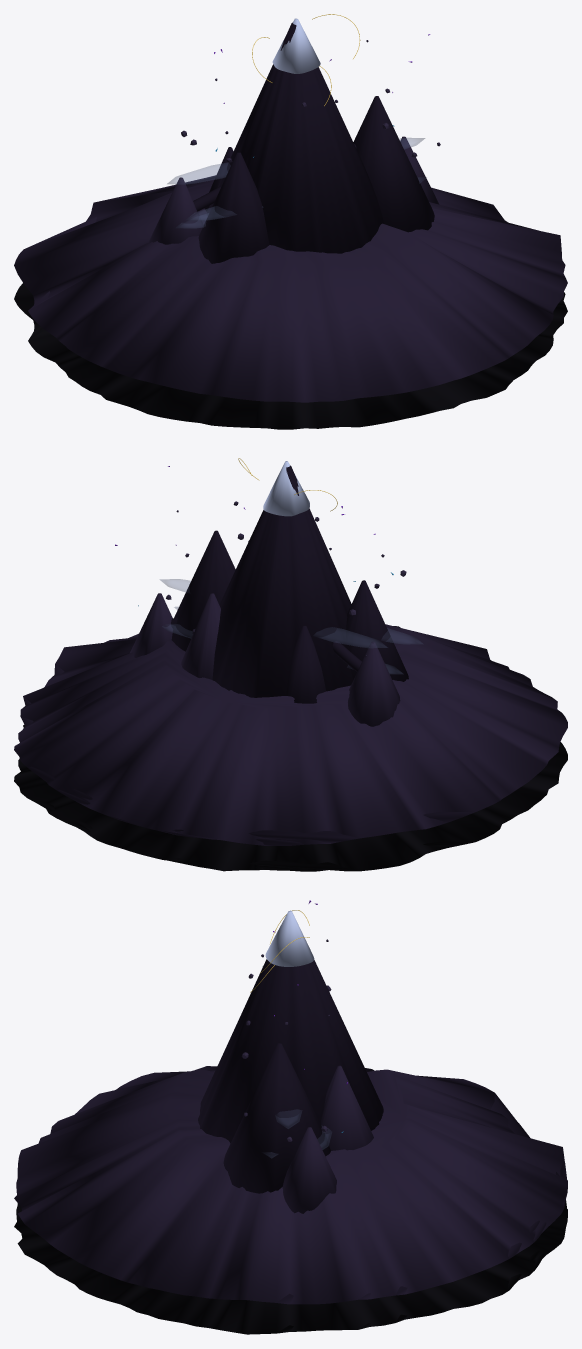
Rendered from mountain.obj.
3 views of the same model, one above another, from view 1: azimuth 30°, elevation 25°; view 2: azimuth 150°, elevation 25°; view 3: azimuth 270°, elevation 25° (orthographic). The views are drawn at different scales.
Parts seen in each view (by area): view 1: DZ_MountainBase.001, DZ_MainPeak, DZ_MountainBase, DZ_SecPeak_2, DZ_SecPeak_0, DZ_SecPeak_1, DZ_SnowCap, DZ_Wisp_6, DZ_SecPeak_3; view 2: DZ_MountainBase.001, DZ_MainPeak, DZ_MountainBase, DZ_SecPeak_2, DZ_SecPeak_0, DZ_SecPeak_1, DZ_SecPeak_4, DZ_SecPeak_5, DZ_SecPeak_3, DZ_SnowCap, DZ_Wisp_6; view 3: DZ_MountainBase.001, DZ_MountainBase, DZ_MainPeak, DZ_SecPeak_2, DZ_SecPeak_3, DZ_SecPeak_5, DZ_SnowCap.
Part boxes in pixels (box(x1,y1,x2,y2)): DZ_MountainBase.001: box(14, 175, 567, 402); DZ_MainPeak: box(207, 22, 384, 253); DZ_MountainBase: box(14, 283, 567, 429); DZ_SecPeak_2: box(353, 96, 434, 232); DZ_SecPeak_0: box(198, 152, 269, 263); DZ_SecPeak_1: box(148, 177, 203, 244); DZ_SnowCap: box(272, 18, 320, 73); DZ_Wisp_6: box(167, 162, 230, 184); DZ_SecPeak_3: box(400, 136, 439, 204); DZ_MountainBase.001: box(14, 624, 567, 845); DZ_MainPeak: box(212, 465, 352, 697); DZ_MountainBase: box(14, 725, 567, 871); DZ_SecPeak_2: box(171, 530, 235, 651); DZ_SecPeak_0: box(346, 580, 408, 681); DZ_SecPeak_1: box(348, 641, 400, 726); DZ_SecPeak_4: box(286, 625, 325, 703); DZ_SecPeak_5: box(181, 593, 220, 679); DZ_SecPeak_3: box(130, 593, 172, 657); DZ_SnowCap: box(263, 461, 309, 516); DZ_Wisp_6: box(314, 627, 387, 647); DZ_MountainBase.001: box(14, 1066, 567, 1304); DZ_MountainBase: box(14, 1200, 567, 1334); DZ_MainPeak: box(198, 959, 383, 1143); DZ_SecPeak_2: box(223, 1042, 330, 1193); DZ_SecPeak_3: box(282, 1127, 336, 1213); DZ_SecPeak_5: box(320, 1065, 373, 1150); DZ_SnowCap: box(265, 910, 314, 966).
Size of the model in its own units: 56.98 by 33.95 by 55.75.
